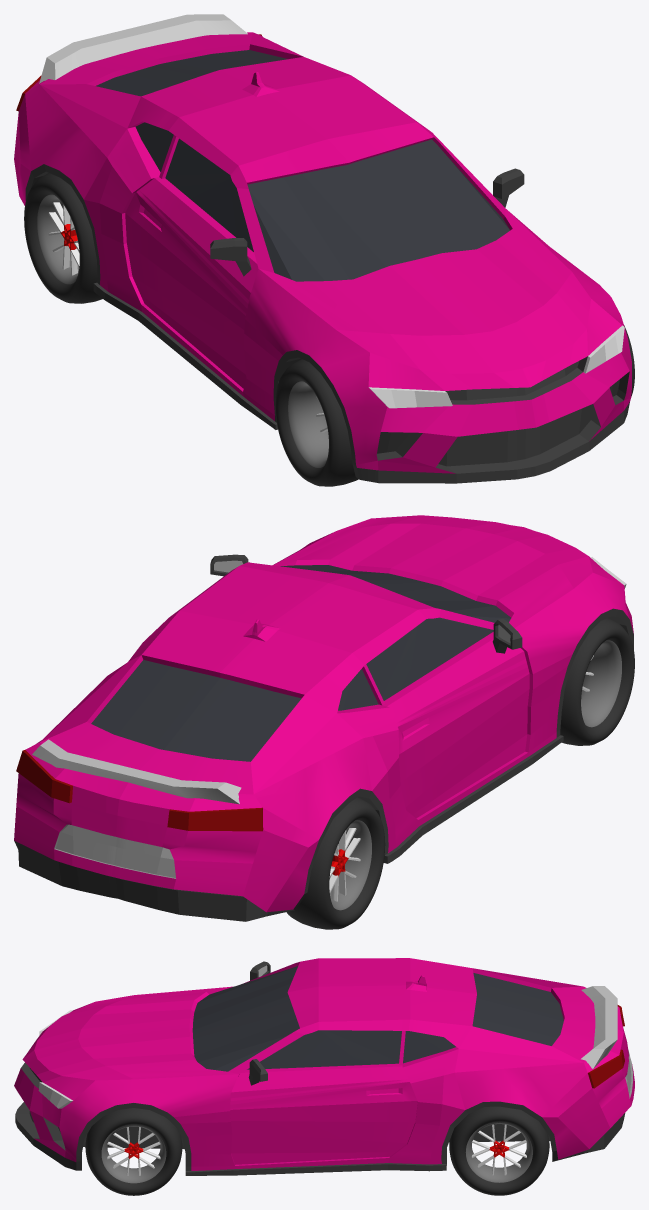
The model's file is Standard Racing Car.fbx.
The picture shows the model from 3 angles, top to bottom: view 1: azimuth 30°, elevation 25°; view 2: azimuth 150°, elevation 25°; view 3: azimuth 270°, elevation 25°; orthographic projection. The views are drawn at different scales.
Visible parts, largest first — view 1: polySurface59, polySurface43, polySurface65, Tier (×2), Back, pPipe4 (×2), polySurface41, pCube871, Left_Side_Mirror, Right_Side_Mirror; view 2: polySurface59, polySurface43, polySurface65, Tier (×2), pPipe4 (×2), Back, polySurface45, polySurface49, pCube871, Left_Side_Mirror, Right_Side_Mirror; view 3: polySurface59, polySurface43, Tier (×2), polySurface65, pPipe4 (×2), Back, pCube871 (×2), polySurface49, polySurface41, Right_Side_Mirror.
Part boxes in pixels (x1=…): polySurface59: x1=14, y1=32, x2=631, y2=473; polySurface43: x1=96, y1=50, x2=509, y2=281; polySurface65: x1=25, y1=164, x2=629, y2=483; Tier (×2): x1=24, y1=173, x2=358, y2=486; Back: x1=39, y1=14, x2=247, y2=83; pPipe4 (×2): x1=37, y1=194, x2=328, y2=467; polySurface41: x1=369, y1=325, x2=624, y2=408; pCube871: x1=48, y1=202, x2=79, y2=275; Left_Side_Mirror: x1=210, y1=238, x2=251, y2=276; Right_Side_Mirror: x1=493, y1=168, x2=524, y2=207; polySurface59: x1=14, y1=515, x2=633, y2=912; polySurface43: x1=91, y1=565, x2=511, y2=761; polySurface65: x1=14, y1=608, x2=633, y2=921; Tier (×2): x1=286, y1=618, x2=634, y2=929; pPipe4 (×2): x1=329, y1=640, x2=621, y2=910; Back: x1=32, y1=739, x2=241, y2=804; polySurface45: x1=54, y1=824, x2=175, y2=878; polySurface49: x1=16, y1=750, x2=263, y2=831; pCube871: x1=329, y1=828, x2=360, y2=901; Left_Side_Mirror: x1=492, y1=618, x2=522, y2=653; Right_Side_Mirror: x1=210, y1=554, x2=248, y2=576; polySurface59: x1=14, y1=958, x2=634, y2=1170; polySurface43: x1=192, y1=966, x2=563, y2=1071; Tier (×2): x1=85, y1=1106, x2=549, y2=1195; polySurface65: x1=15, y1=1063, x2=625, y2=1175; pPipe4 (×2): x1=101, y1=1122, x2=532, y2=1183; Back: x1=581, y1=986, x2=617, y2=1068; pCube871 (×2): x1=107, y1=1124, x2=526, y2=1175; polySurface49: x1=588, y1=1005, x2=624, y2=1088; polySurface41: x1=38, y1=1010, x2=72, y2=1108; Right_Side_Mirror: x1=248, y1=1059, x2=267, y2=1085.
Size of what is drawn, in the model's own units: 31.29 by 22.37 by 73.83.
